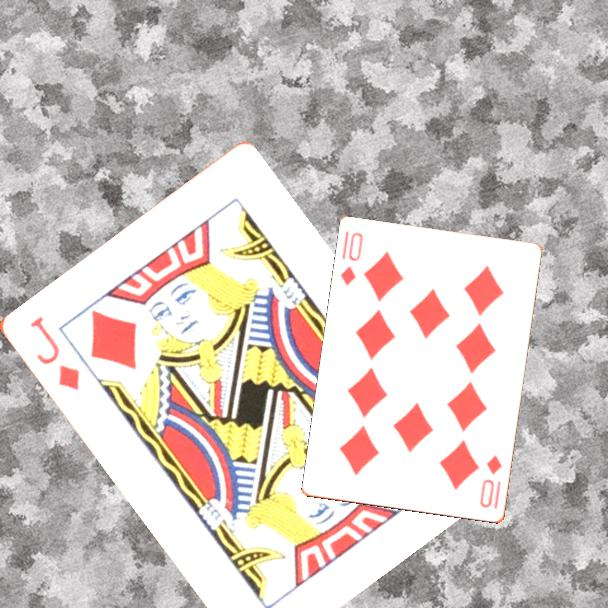d10: (337, 228, 366, 289), (476, 452, 505, 511)
d11: (26, 312, 83, 394)
